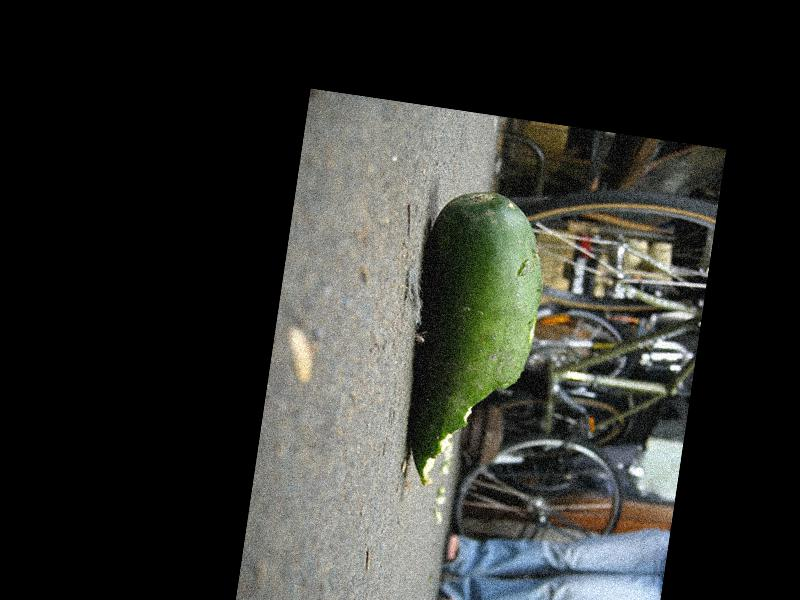Cucumber: (395, 185, 554, 501)
